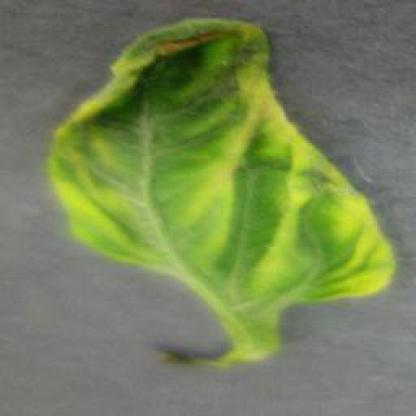bad leaf: (70, 12, 359, 296)
